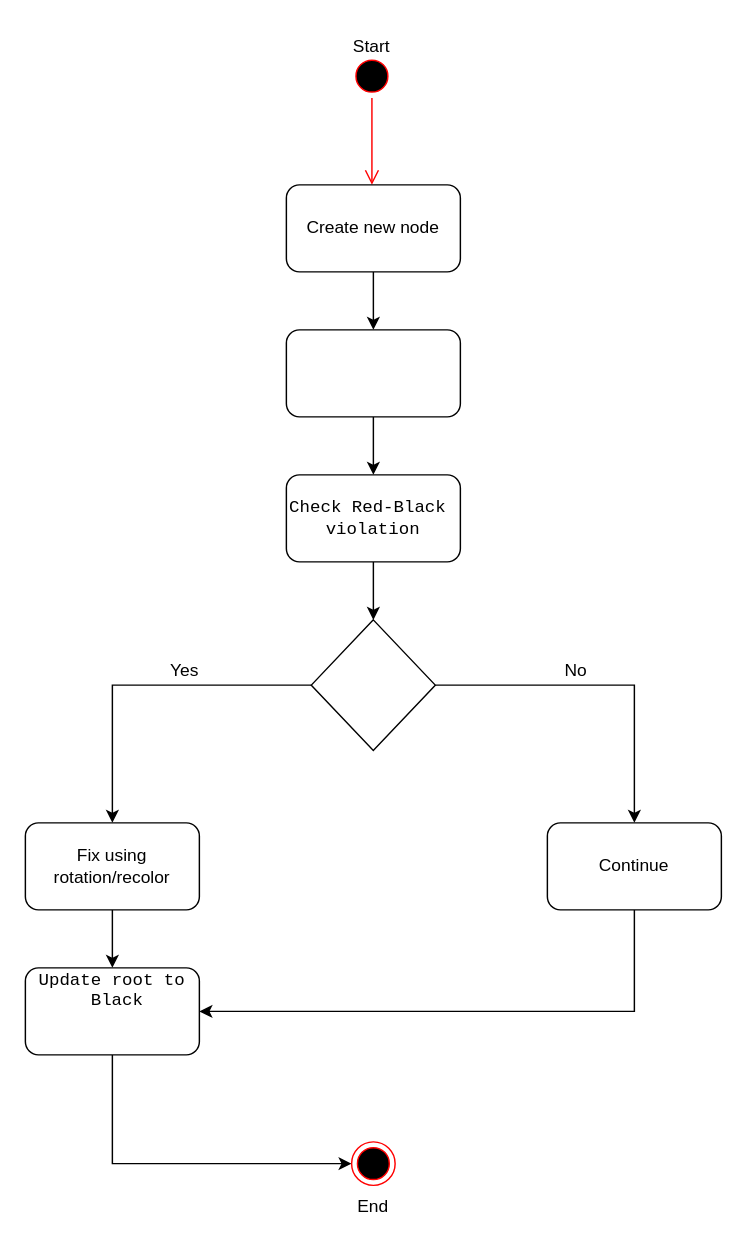
Image size: 747x1253. Some labels were removed from this diagram. Each missing label, with the centre of its shape:
Insert node like BST: pixel 372 372
Violation exists?: pixel 372 684
